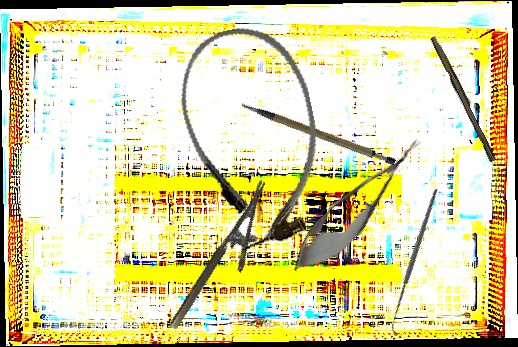Cannula: (168, 16, 338, 257)
Hook Surgical: (339, 187, 493, 336)
Micro Scissor: (279, 123, 436, 288)
Needle Holder: (166, 179, 290, 343)
Scalpel Handle: (240, 78, 398, 186), (427, 34, 501, 163)
